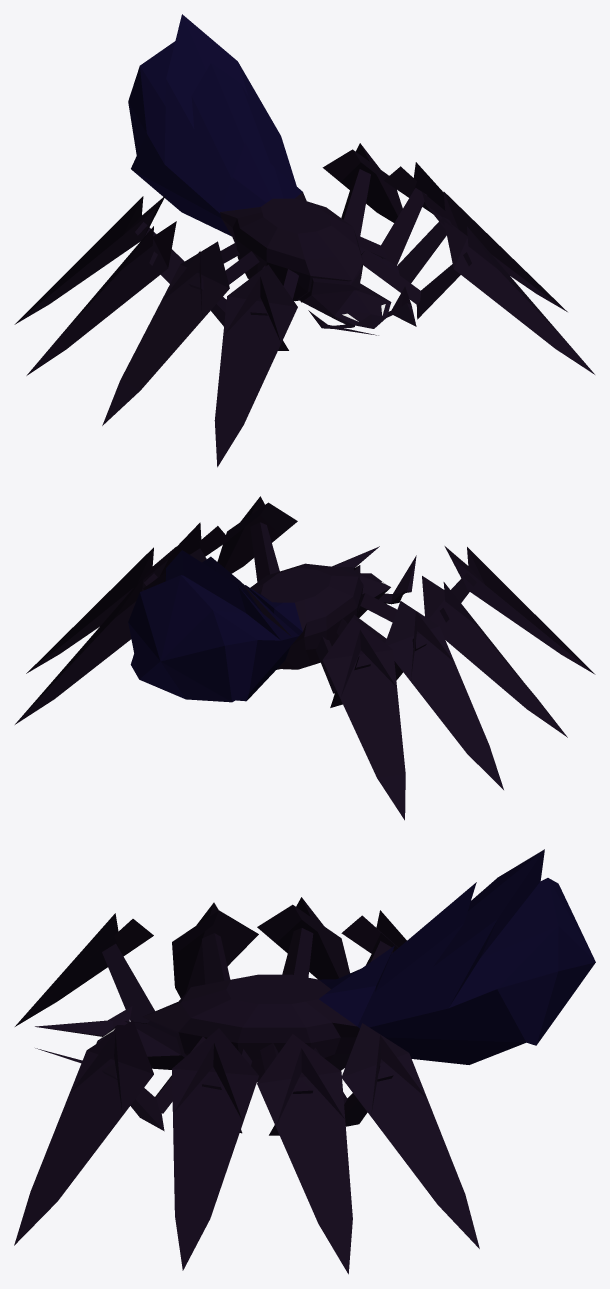
File: SpiderMOBCOLLIDER.fbx
3 renders of one model, top to bottom at view 1: azimuth 30°, elevation 25°; view 2: azimuth 150°, elevation 25°; view 3: azimuth 270°, elevation 25°, orthographic. The views are drawn at different scales.
Visible parts, largest first — view 1: Cylinder; view 2: Cylinder; view 3: Cylinder.
Part boxes in pixels (x1,y1,x2,y2): Cylinder: (14, 14, 594, 467); Cylinder: (15, 496, 595, 820); Cylinder: (14, 849, 595, 1274).
Bounding box in the file's own units: 1054 × 512 × 939.
